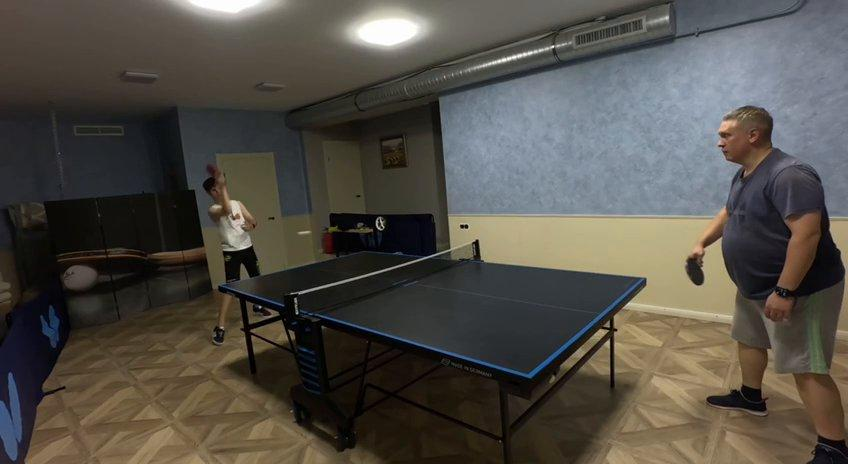Ball: (296, 229, 312, 237)
Net: (285, 239, 483, 325)
Player1: (202, 168, 259, 343)
Player2: (687, 107, 847, 463)
Table: (227, 251, 645, 373)
